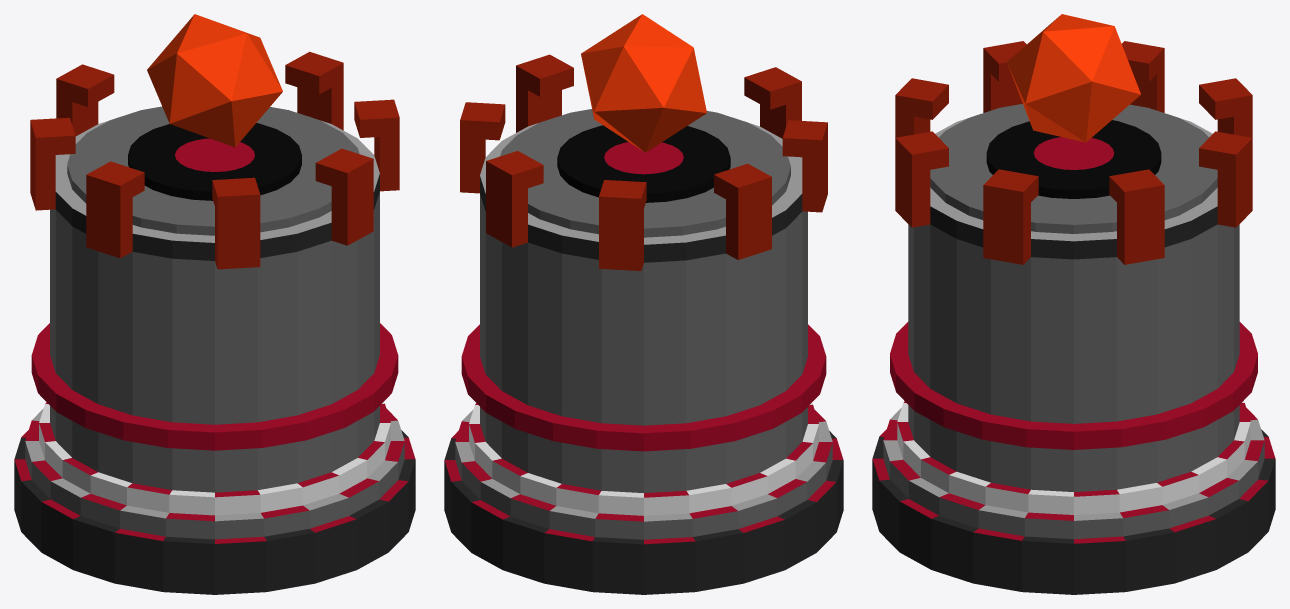
The model's file is Tower Fire fb.fbx.
3 renders of one model, left to right at view 1: azimuth 30°, elevation 25°; view 2: azimuth 150°, elevation 25°; view 3: azimuth 270°, elevation 25°, orthographic.
Visible parts, largest first — view 1: Cylinder, Icosphere; view 2: Cylinder, Icosphere; view 3: Cylinder, Icosphere.
Boxes of the visible parts, bbox=[...] form: Cylinder: bbox=[14, 51, 415, 594]; Icosphere: bbox=[147, 14, 282, 147]; Cylinder: bbox=[444, 54, 843, 594]; Icosphere: bbox=[581, 14, 706, 152]; Cylinder: bbox=[872, 41, 1275, 594]; Icosphere: bbox=[1007, 14, 1140, 142].
Size of the model in its own units: 200 by 266 by 200.
